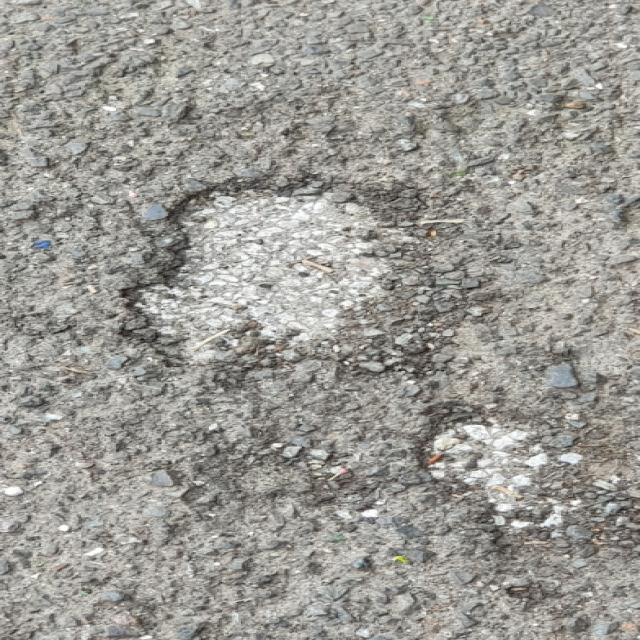pothole: (114, 172, 451, 370)
